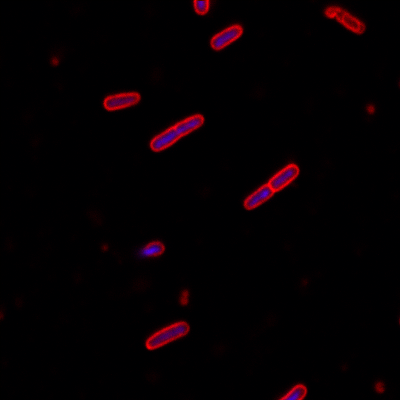Oblique: (139, 238, 166, 259)
Rifampicin: (242, 162, 301, 210), (148, 113, 205, 152), (144, 321, 190, 350), (209, 24, 243, 51), (101, 91, 142, 112)
Vesicle: (178, 289, 190, 307), (375, 380, 386, 395), (49, 57, 60, 68), (366, 105, 376, 115)
